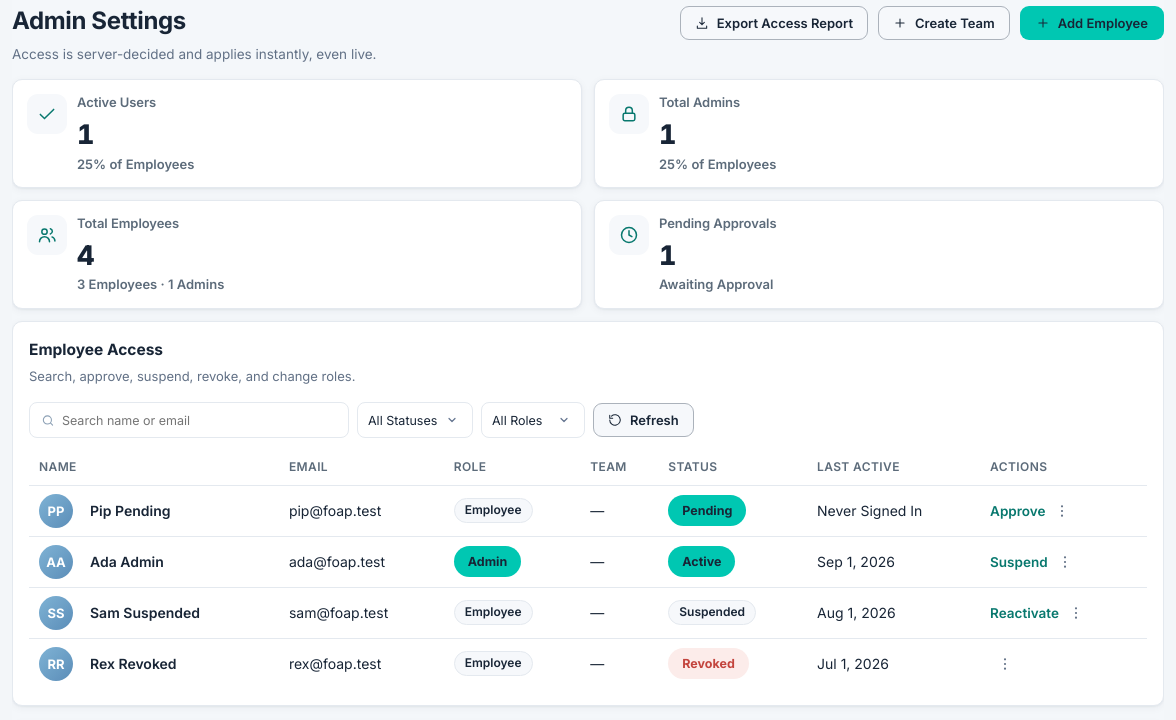
Scenario: AdminEmployeesPage › exports an access report from real employee and audit data
The width and height of the screenshot is (1176, 720).
Check: the button "Approve" is shown, box [990, 503, 1046, 519]
What coordinates should you click on to do the following:
click the button "Export Access Report"
I would click on:
 (774, 23)
Its box is [680, 6, 868, 40].
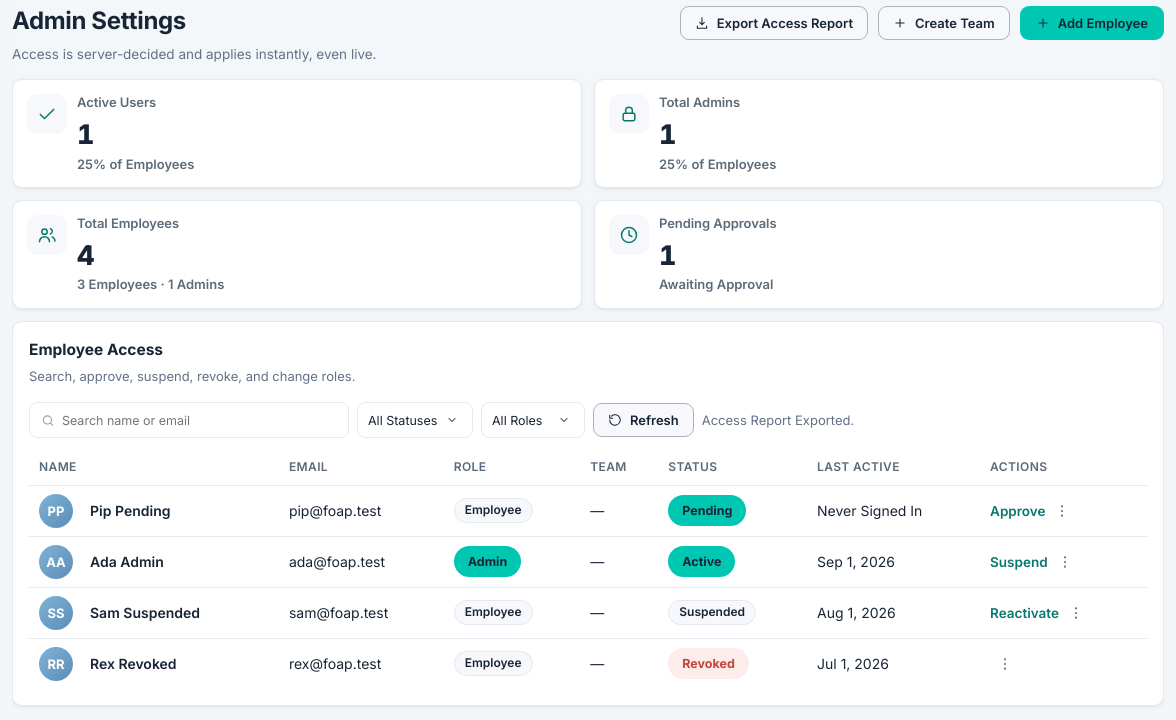
Check: the text "Access Report Exported." is shown, box [702, 410, 854, 430]
